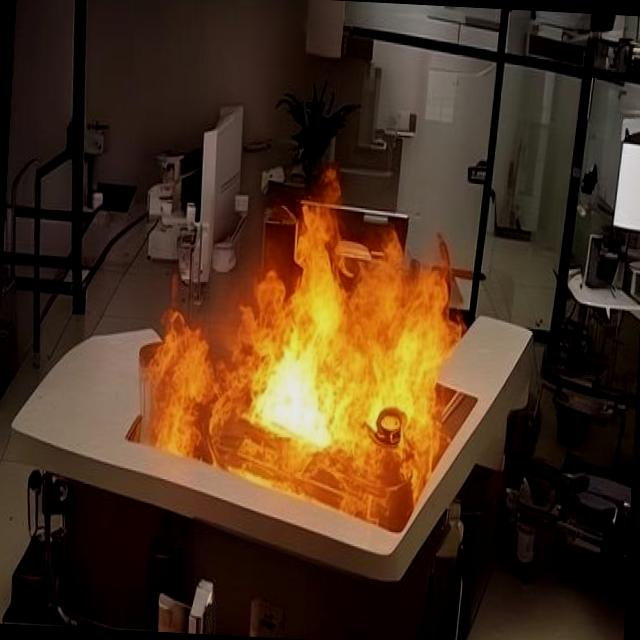fire: (136, 170, 479, 548)
